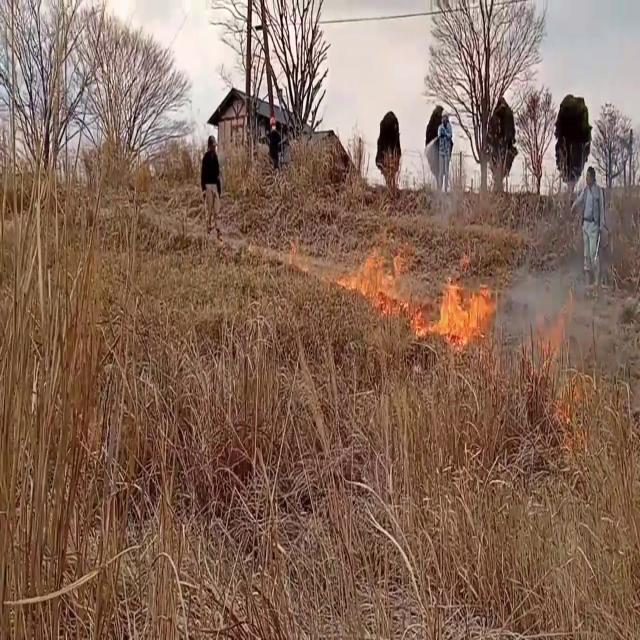Fire: (427, 270, 498, 350), (348, 238, 410, 310)
